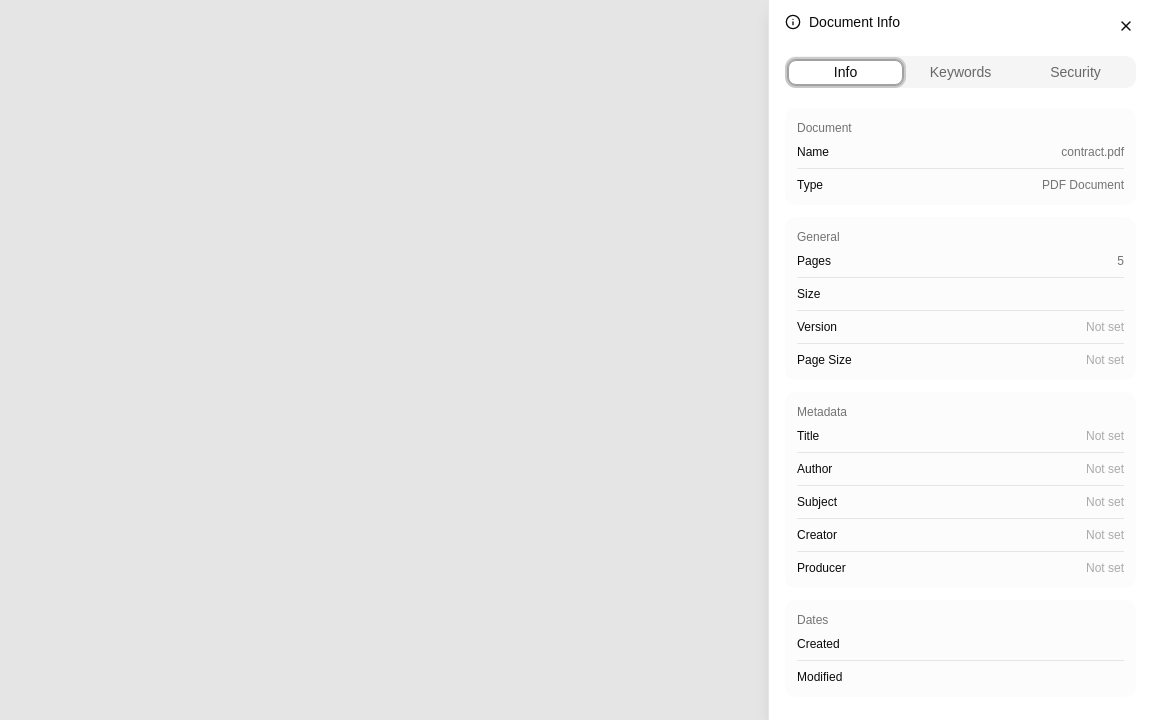
it: InfoPanel — Keywords tab › shows 'No keywords defined.' when keywords is null
Click the tab "Keywords" at (960, 72), box [903,60,1018,84]
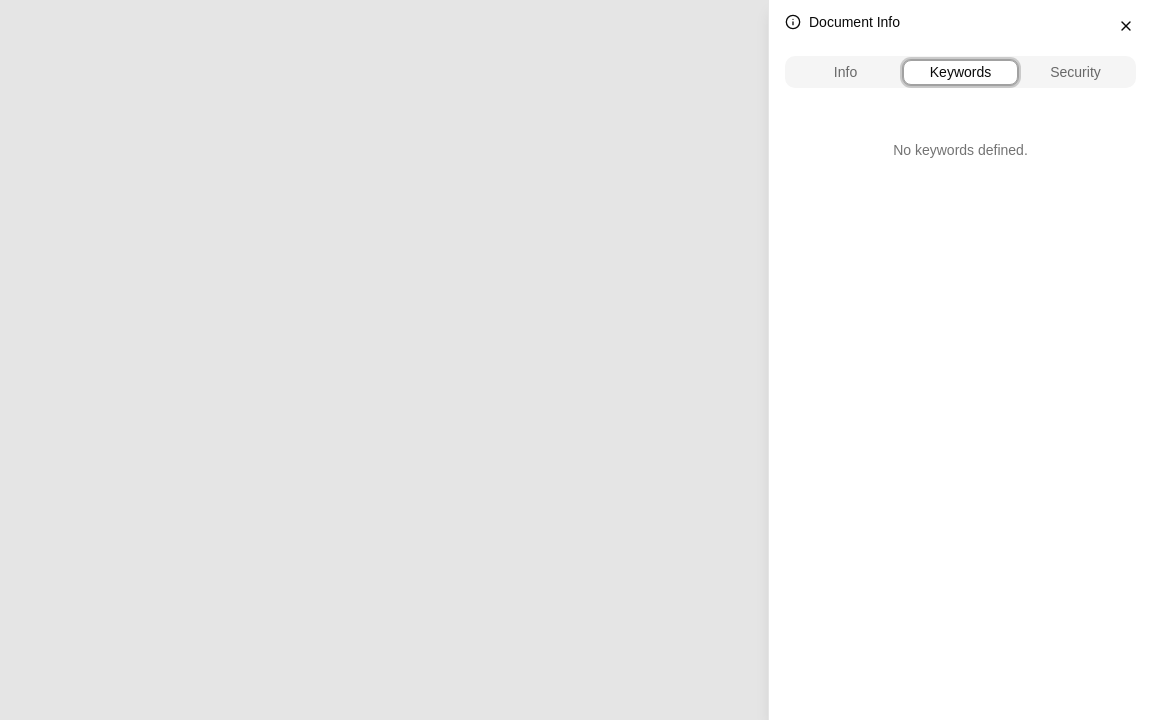
Check: the text "No keywords defined." is shown, box [893,142,1028,158]
